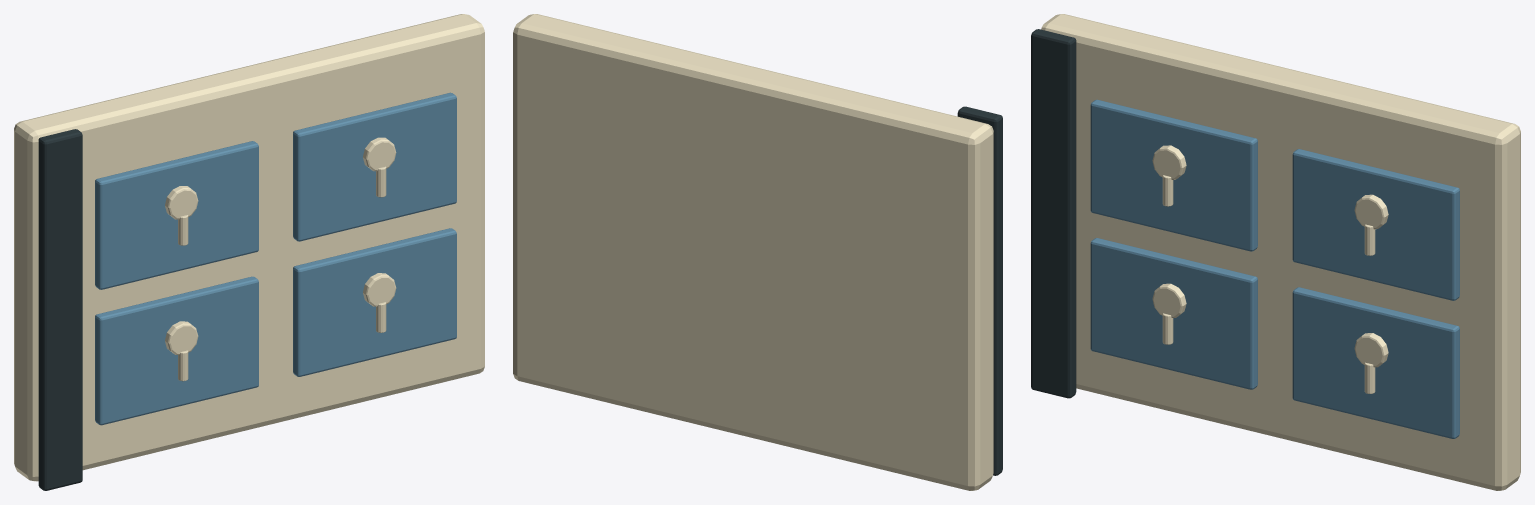
The model's file is P073_storyboard_pad.glb.
3 views of the same model, side by side, from view 1: azimuth 30°, elevation 25°; view 2: azimuth 150°, elevation 25°; view 3: azimuth 330°, elevation 25° (orthographic). The views are drawn at different scales.
Visible parts, largest first — view 1: P073_pad_001, P073_frame_003, P073_frame_009, P073_frame_012, P073_frame_006, P073_binding_002, P073_actor_013, P073_actor_004, P073_actor_007, P073_actor_010; view 2: P073_pad_001, P073_binding_002; view 3: P073_pad_001, P073_frame_003, P073_frame_006, P073_frame_012, P073_frame_009, P073_binding_002, P073_actor_007, P073_actor_010, P073_actor_004, P073_actor_013.
Boxes of the visible parts, box(x1,y1,x2,y2) form: P073_pad_001: box(14, 14, 484, 481); P073_frame_003: box(95, 276, 258, 425); P073_frame_009: box(293, 228, 456, 376); P073_frame_012: box(293, 92, 456, 241); P073_frame_006: box(95, 141, 258, 289); P073_binding_002: box(38, 129, 82, 490); P073_actor_013: box(363, 137, 396, 171); P073_actor_004: box(165, 321, 198, 354); P073_actor_007: box(165, 186, 198, 219); P073_actor_010: box(363, 273, 396, 306); P073_pad_001: box(513, 14, 993, 490); P073_binding_002: box(957, 106, 1002, 475); P073_pad_001: box(1041, 14, 1520, 490); P073_frame_003: box(1090, 238, 1257, 389); P073_frame_006: box(1090, 99, 1257, 251); P073_frame_012: box(1292, 149, 1459, 300); P073_frame_009: box(1292, 287, 1459, 438); P073_binding_002: box(1031, 29, 1076, 398); P073_actor_007: box(1152, 145, 1186, 179); P073_actor_010: box(1354, 333, 1388, 367); P073_actor_004: box(1152, 283, 1186, 318); P073_actor_013: box(1354, 194, 1388, 229).
Size of the model in its own units: 0.3 by 0.22 by 0.04.
